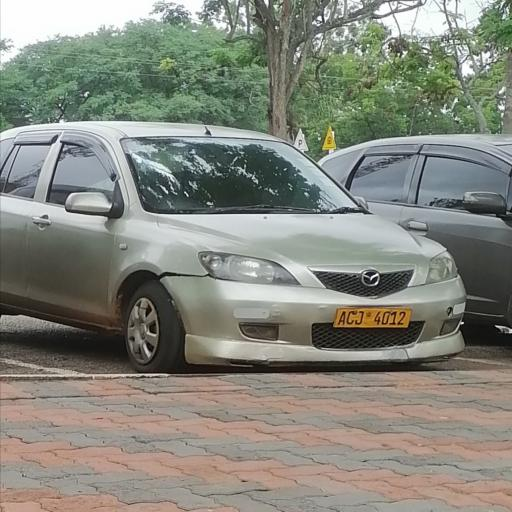number-plates: (332, 303, 416, 333)
